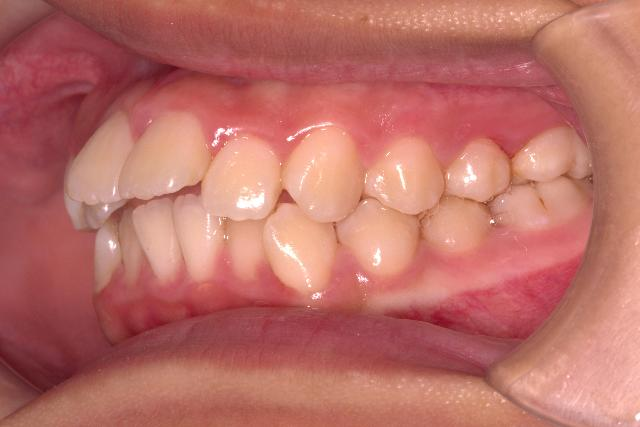canine class II 1/4: (262, 120, 422, 296)
molar class III 1/4: (486, 121, 598, 235)
